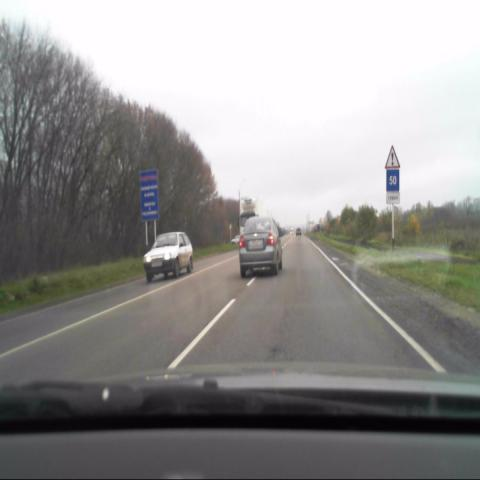1_33: (386, 144, 400, 168)
6_2: (386, 169, 399, 190)
